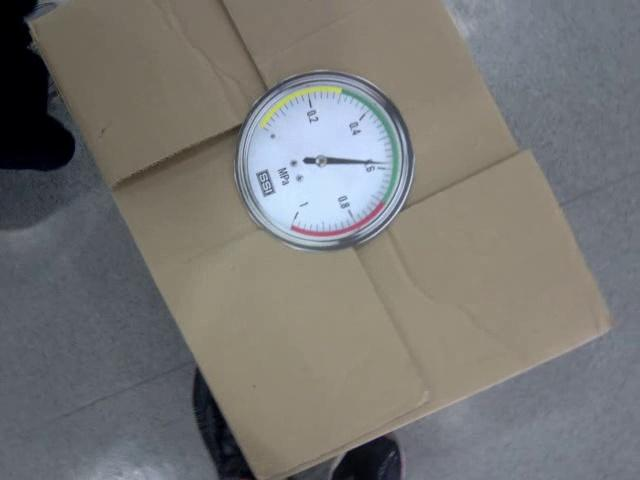Dashboard: (234, 71, 417, 252)
ssi: (254, 168, 274, 198)
